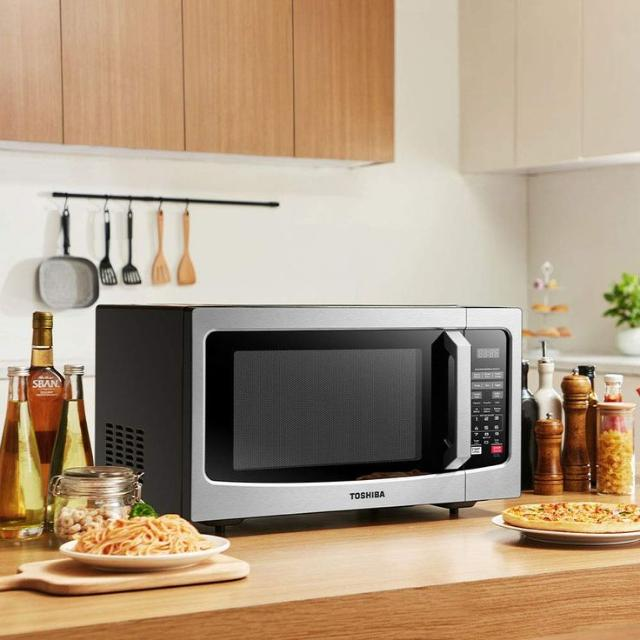Microwave: (92, 298, 524, 522)
